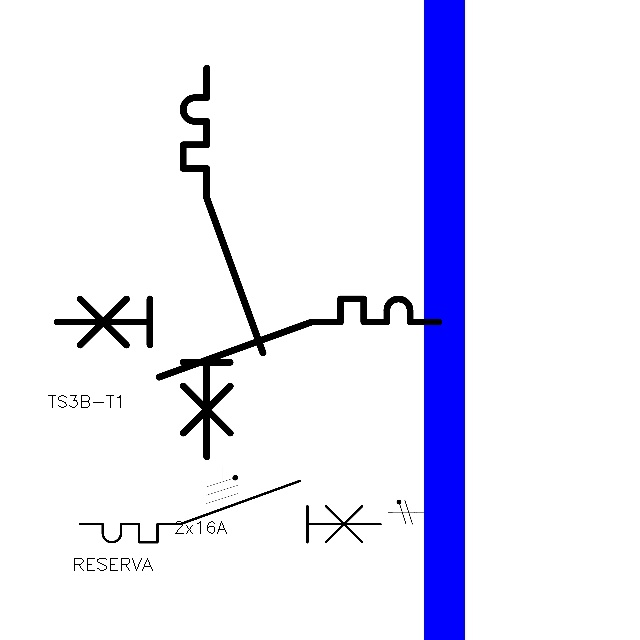interruptor_termomagnetico: (173, 58, 273, 467), (47, 289, 449, 387), (72, 473, 388, 550)
